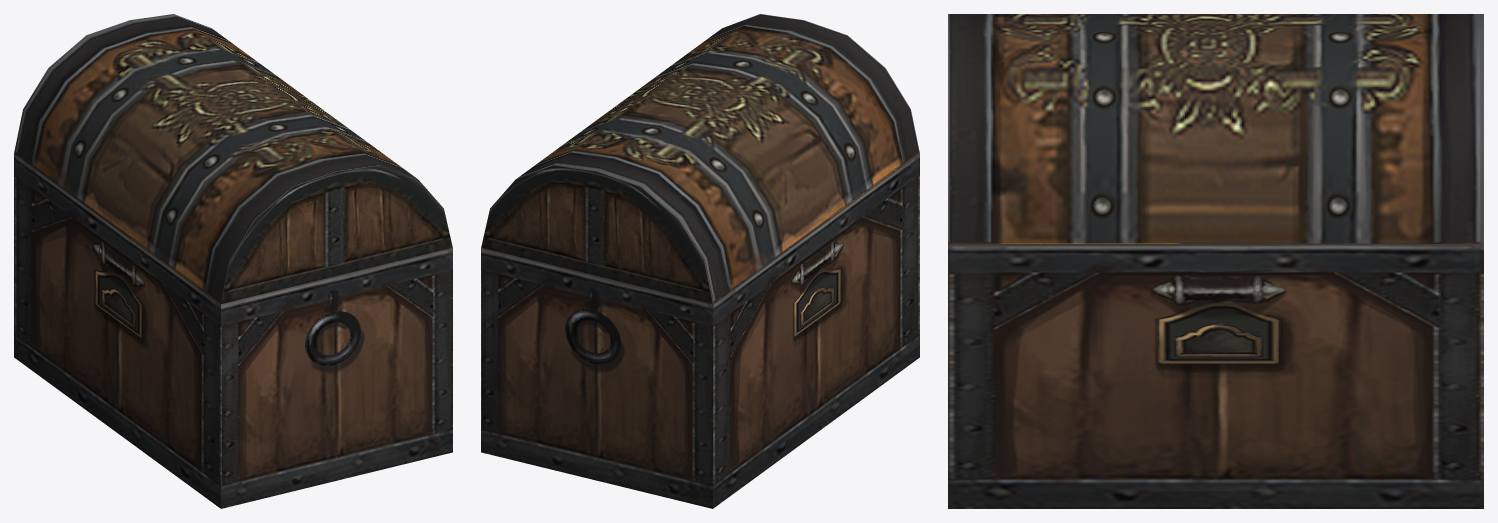
3 renders of one model, left to right at view 1: azimuth 30°, elevation 25°; view 2: azimuth 150°, elevation 25°; view 3: azimuth 270°, elevation 25°, orthographic. The views are drawn at different scales.
Parts seen in each view (by area): view 1: box_k001; view 2: box_k001; view 3: box_k001.
Boxes of the visible parts, x1,y1,x2,y2 form: box_k001: (14,14,452,508); box_k001: (481,14,919,508); box_k001: (948,14,1483,508).
Size of the model in its own units: 1.18 by 1.51 by 1.83.
